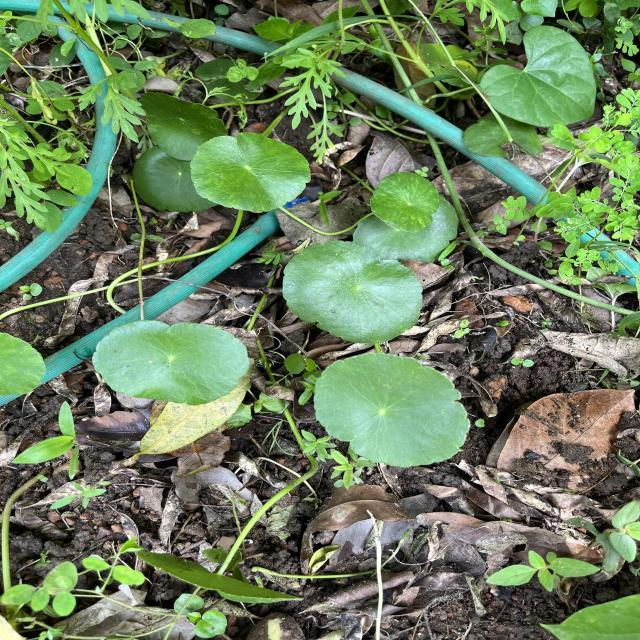Bacopa monnieri: (312, 351, 472, 469), (280, 238, 424, 346), (90, 318, 250, 406), (188, 130, 312, 214), (369, 171, 441, 234)
